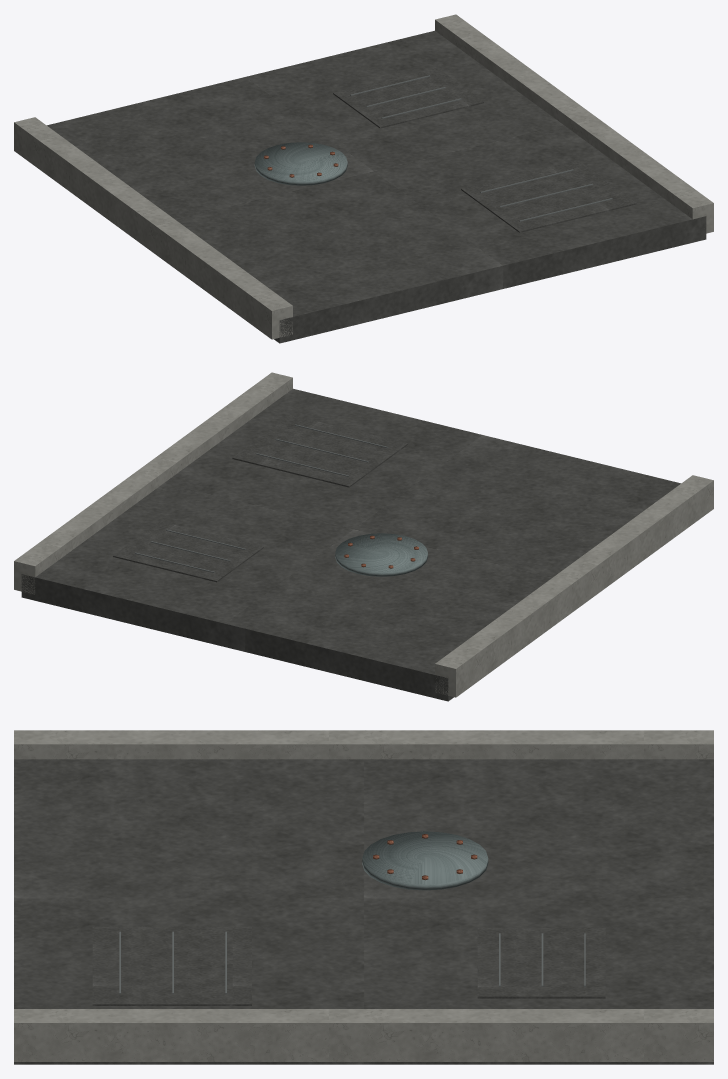
Rendered from PZ_Alley_Lane_Patched_4M.glb.
3 views of the same model, one above another, from view 1: azimuth 30°, elevation 25°; view 2: azimuth 150°, elevation 25°; view 3: azimuth 270°, elevation 25° (orthographic). The views are drawn at different scales.
Parts seen in each view (by area): view 1: C_Roadbed, C_W_Curb, C_E_Curb, C_AsphaltRepair_1, C_AsphaltRepair_2, C_Utility_Monhole_Lid; view 2: C_Roadbed, C_W_Curb, C_E_Curb, C_AsphaltRepair_1, C_AsphaltRepair_2, C_Utility_Monhole_Lid; view 3: C_Roadbed, C_E_Curb, C_W_Curb, C_AsphaltRepair_1, C_AsphaltRepair_2, C_Utility_Monhole_Lid.
Boxes of the visible parts, x1,y1,x2,y2 form: C_Roadbed: (47,30,706,343); C_W_Curb: (14,117,292,339); C_E_Curb: (435,14,713,233); C_AsphaltRepair_1: (461,160,636,232); C_AsphaltRepair_2: (333,67,483,128); C_Utility_Monhole_Lid: (254,142,347,185); C_Roadbed: (21,388,680,701); C_W_Curb: (435,475,713,697); C_E_Curb: (14,372,292,594); C_AsphaltRepair_1: (232,415,407,487); C_AsphaltRepair_2: (113,521,263,582); C_Utility_Monhole_Lid: (335,533,427,576); C_Roadbed: (14,759,713,1064); C_E_Curb: (14,1009,713,1061); C_W_Curb: (14,730,713,759); C_AsphaltRepair_1: (92,926,251,1005); C_AsphaltRepair_2: (477,928,605,998); C_Utility_Monhole_Lid: (362,831,488,890).
Size of the model in its own units: 3.96 by 0.295 by 4.
Materials: 5 (4 with a texture image).
